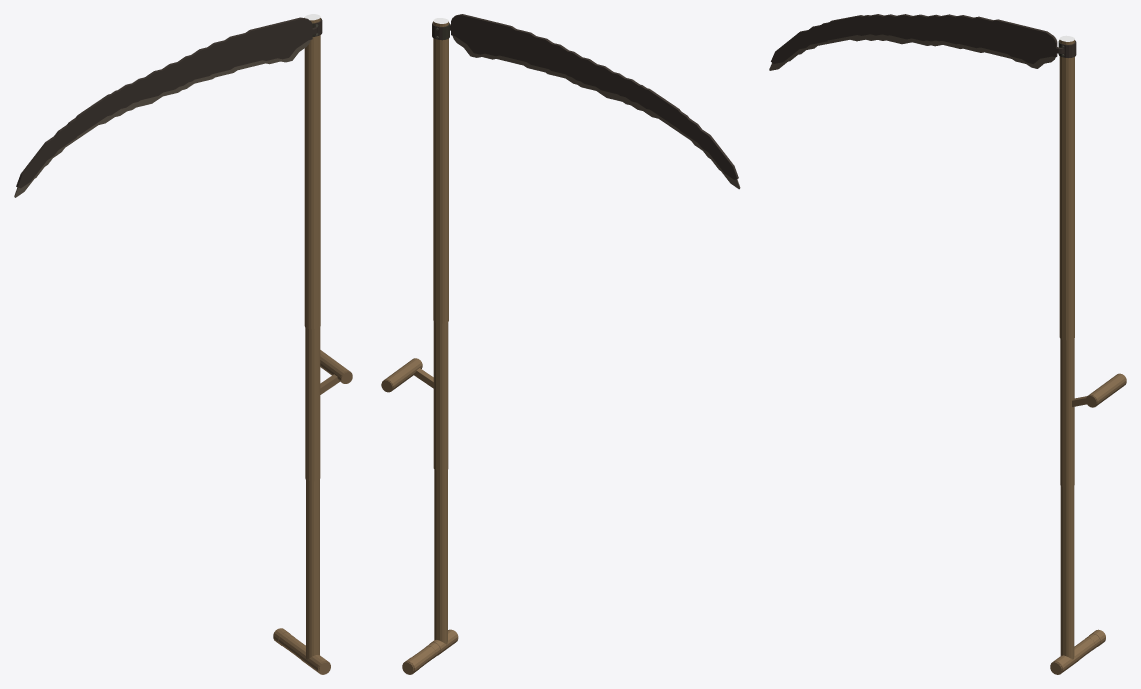
3 renders of one model, left to right at view 1: azimuth 30°, elevation 25°; view 2: azimuth 150°, elevation 25°; view 3: azimuth 330°, elevation 25°, orthographic. The views are drawn at different scales.
Visible parts, largest first — view 1: hexadecagon (×12), cube (×6); view 2: hexadecagon (×9), cube (×4); view 3: hexadecagon (×9), cube (×5).
Boxes of the visible parts, box(x1,y1,x2,y2) form: hexadecagon (×12): box(305, 14, 319, 659); cube (×6): box(21, 17, 302, 181); hexadecagon (×9): box(433, 18, 448, 640); cube (×4): box(461, 14, 687, 129); hexadecagon (×9): box(1059, 36, 1074, 655); cube (×5): box(822, 14, 1046, 59).
Bounding box in the file's own units: 0.9749 × 1.8 × 0.2301.
Materials: 12 (2 with a texture image).
